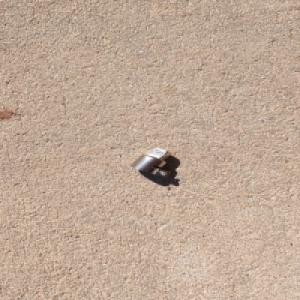MetalPart: (129, 146, 173, 178)
